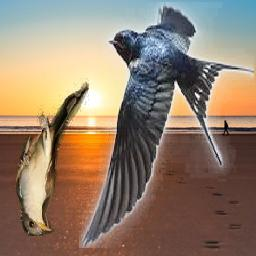Cuckoo: (17, 78, 90, 236)
Swallow: (80, 2, 255, 248)
